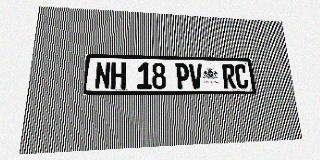1: (137, 62, 152, 89)
8: (152, 63, 166, 89)
C: (234, 64, 249, 89)
H: (110, 62, 126, 89)
N: (94, 62, 111, 89)
P: (175, 63, 189, 89)
R: (222, 64, 236, 89)
V: (189, 63, 203, 89)
